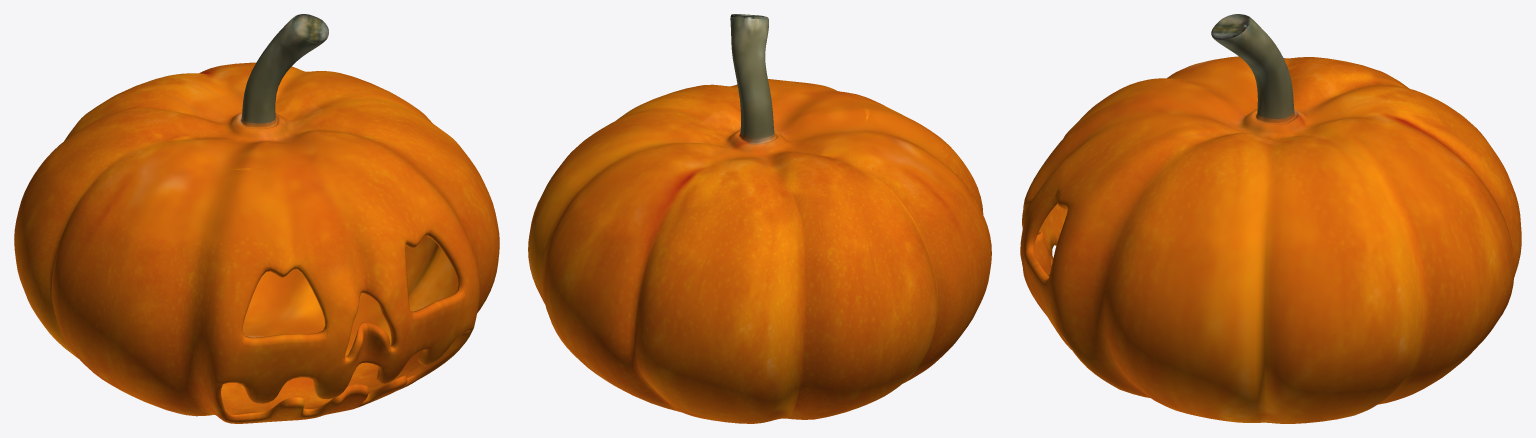
The picture shows the model from 3 angles, left to right: view 1: azimuth 30°, elevation 25°; view 2: azimuth 150°, elevation 25°; view 3: azimuth 270°, elevation 25°; orthographic projection. The views are drawn at different scales.
Parts seen in each view (by area): view 1: Jack_Olantern; view 2: Jack_Olantern; view 3: Jack_Olantern.
Boxes of the visible parts, x1,y1,x2,y2 form: Jack_Olantern: (14,14,499,423); Jack_Olantern: (528,14,991,423); Jack_Olantern: (1020,14,1521,423).
Size of the model in its own units: 7.53 by 6.23 by 7.67.
Materials: 1 (1 with a texture image).
